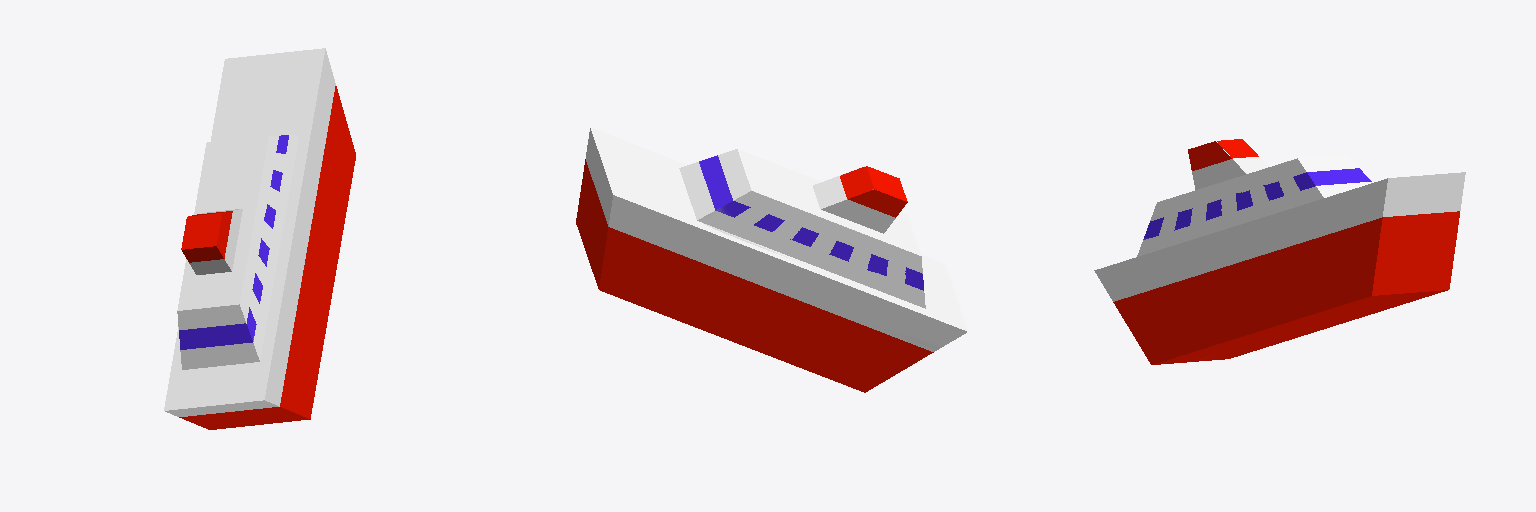
The picture shows the model from 3 angles: view 1: azimuth 30°, elevation 25°; view 2: azimuth 150°, elevation 25°; view 3: azimuth 270°, elevation 25°; orthographic projection.
Visible parts, largest first — view 1: Cube_Cube.004; view 2: Cube_Cube.004; view 3: Cube_Cube.004.
Boxes of the visible parts, x1,y1,x2,y2 form: Cube_Cube.004: [164, 48, 355, 429]; Cube_Cube.004: [576, 127, 967, 392]; Cube_Cube.004: [1094, 139, 1465, 364].
Bounding box in the file's own units: 2.67 × 2.41 × 2.94.
Materials: 1 (1 with a texture image).